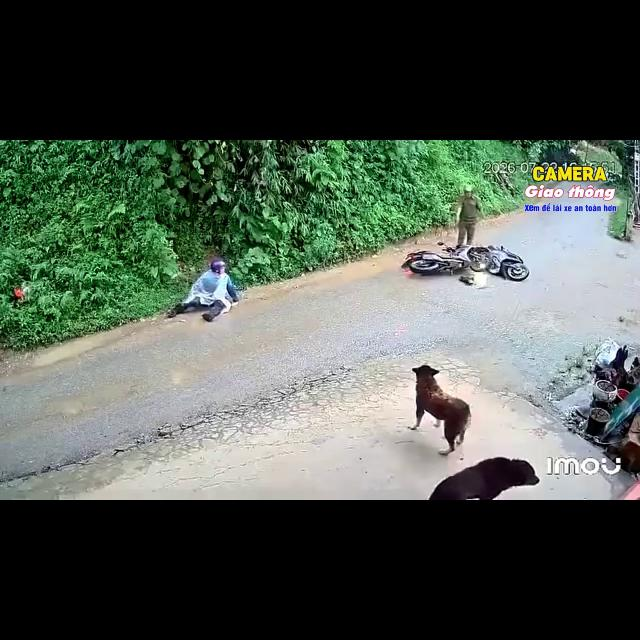motorcycle: (401, 242, 473, 274), (470, 246, 529, 281)
